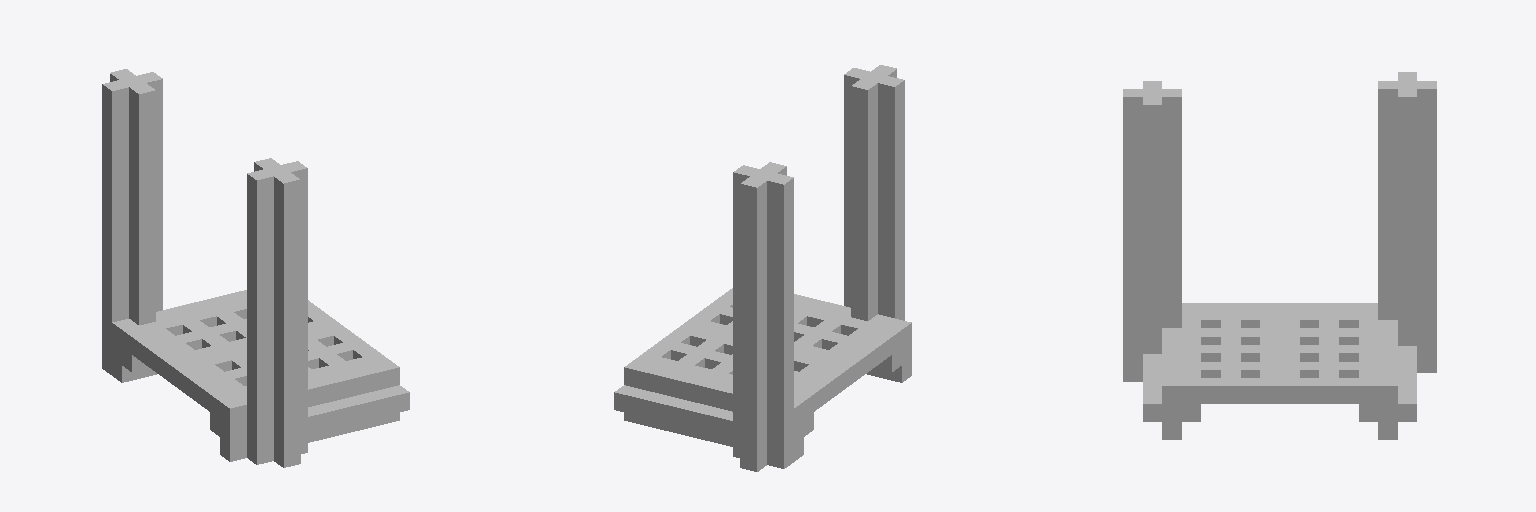
The model's file is pole_scaffolding_end_floor_steel.obj.
The picture shows the model from 3 angles: view 1: azimuth 30°, elevation 25°; view 2: azimuth 150°, elevation 25°; view 3: azimuth 270°, elevation 25°; orthographic projection.
Parts seen in each view (by area): view 1: node_0_1_0; view 2: node_0_1_0; view 3: node_0_1_0.
Boxes of the visible parts, <box> form: node_0_1_0: <box>102,69,409,467</box>; node_0_1_0: <box>614,65,911,471</box>; node_0_1_0: <box>1123,72,1436,439</box>.
Bounding box in the file's own units: 0.625 × 1 × 1.